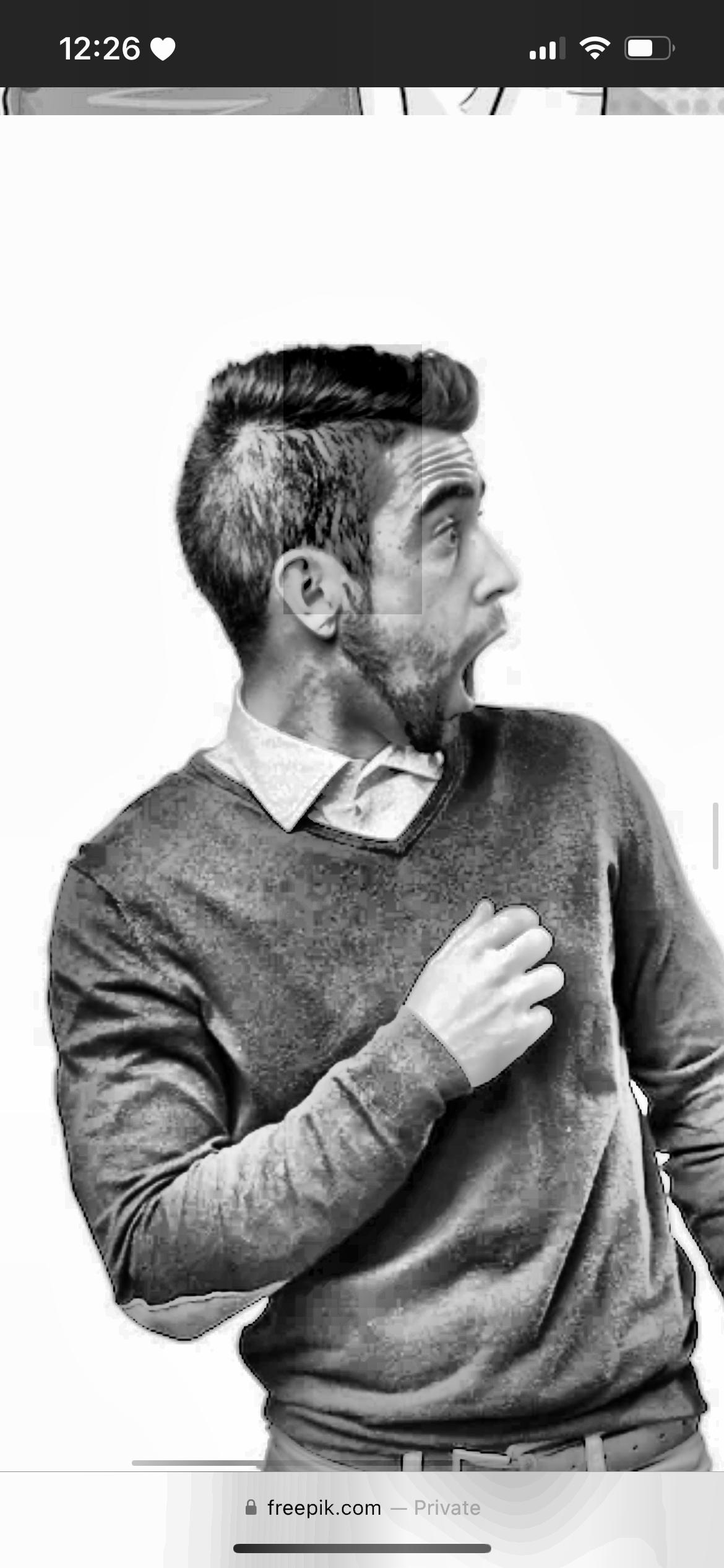Surprised: (351, 426, 522, 760)
